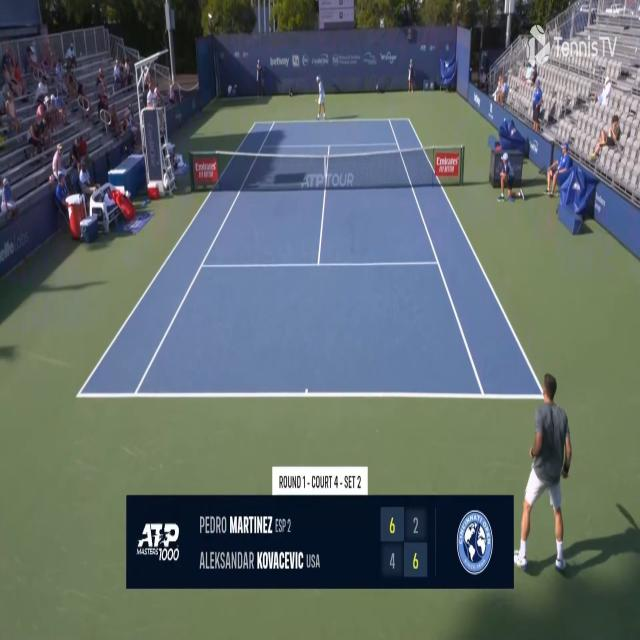tennis-player: (521, 370, 576, 575), (315, 76, 327, 121)
